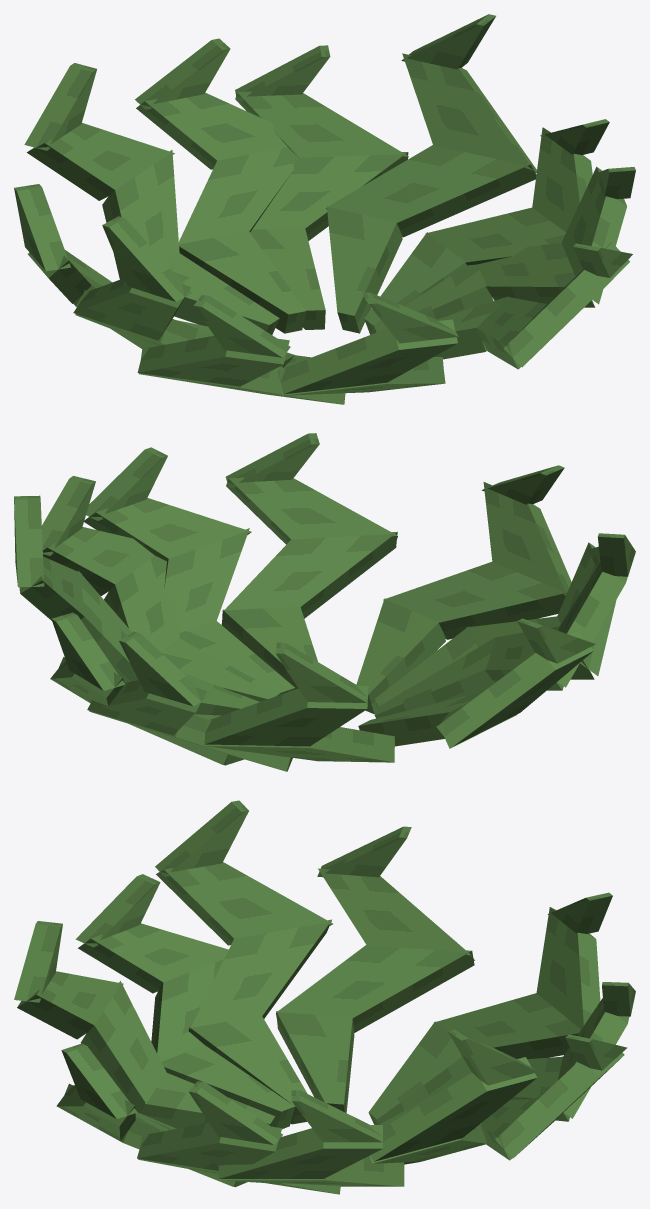
Rendered from f_algae_green.glb.
3 renders of one model, top to bottom at view 1: azimuth 30°, elevation 25°; view 2: azimuth 150°, elevation 25°; view 3: azimuth 270°, elevation 25°, orthographic. The views are drawn at different scales.
Parts seen in each view (by area): view 1: block_wavy-leaflike-frond (×40); view 2: block_wavy-leaflike-frond (×39); view 3: block_wavy-leaflike-frond (×38).
Boxes of the visible parts, left/top/right/bottom form: block_wavy-leaflike-frond (×40): left=14, top=14, right=635, bottom=404; block_wavy-leaflike-frond (×39): left=14, top=433, right=635, bottom=771; block_wavy-leaflike-frond (×38): left=14, top=800, right=635, bottom=1194.
Size of the model in its own units: 0.4013 by 0.1606 by 0.4024.
1 material, 1 textured.
